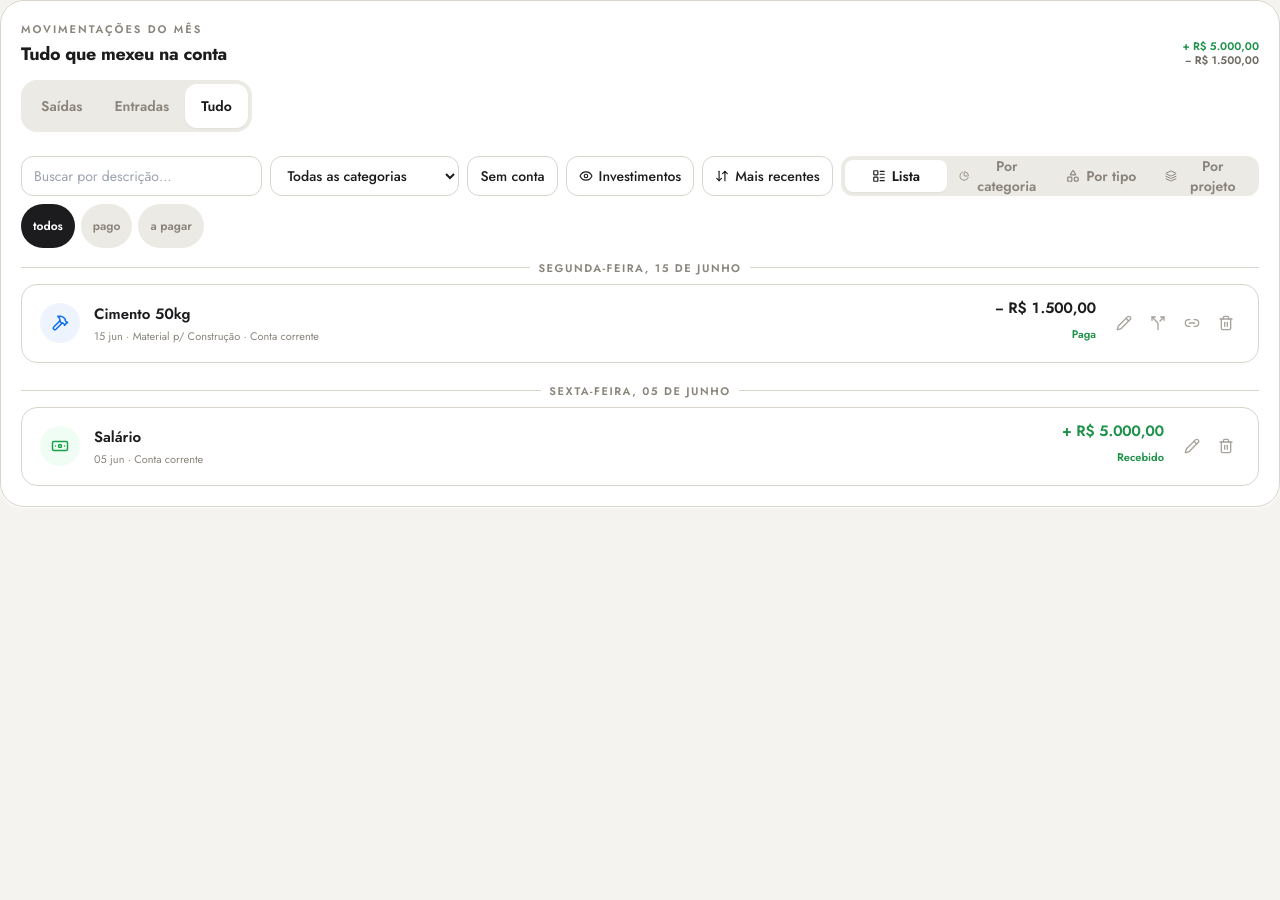
MovimentacoesSection → FinancialItemDetail wiring › clicking a row opens the detail drawer at desktop width
Click the 1st button named "Ver detalhe": (60,323) x1=38 y1=301 x2=82 y2=345
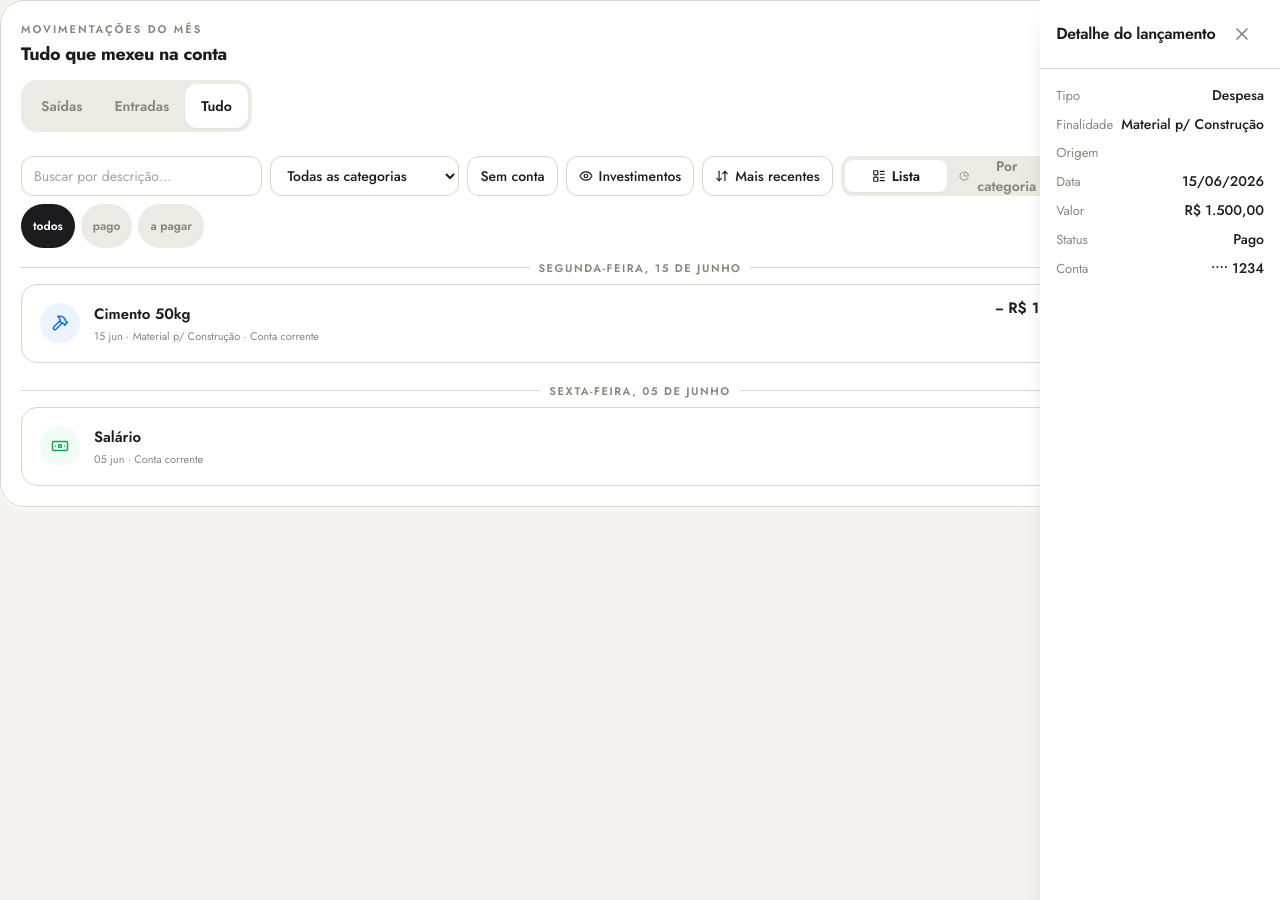
Result: the element with test id "financial-detail-drawer" is shown at x1=1040 y1=0 x2=1279 y2=899
